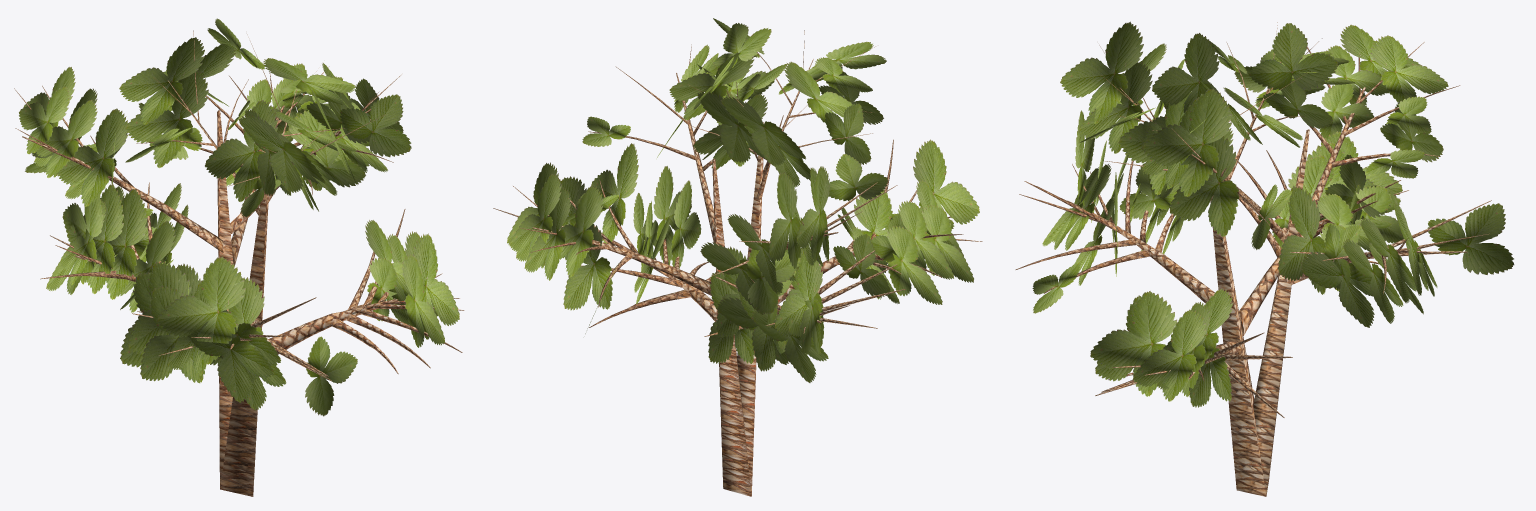
The model's file is Boom1.fbx.
The picture shows the model from 3 angles, left to right: view 1: azimuth 30°, elevation 25°; view 2: azimuth 150°, elevation 25°; view 3: azimuth 270°, elevation 25°; orthographic projection. The views are drawn at different scales.
Visible parts, largest first — view 1: Tree_1, Tree_0; view 2: Tree_1, Tree_0; view 3: Tree_1, Tree_0.
Boxes of the visible parts, x1,y1,x2,y2 form: Tree_1: (19, 18, 459, 416); Tree_0: (14, 30, 464, 496); Tree_1: (507, 18, 979, 382); Tree_0: (493, 30, 982, 496); Tree_1: (1032, 21, 1514, 407); Tree_0: (1015, 22, 1491, 496).
Bounding box in the file's own units: 278 × 331 × 324.
2 materials, 2 textured.
